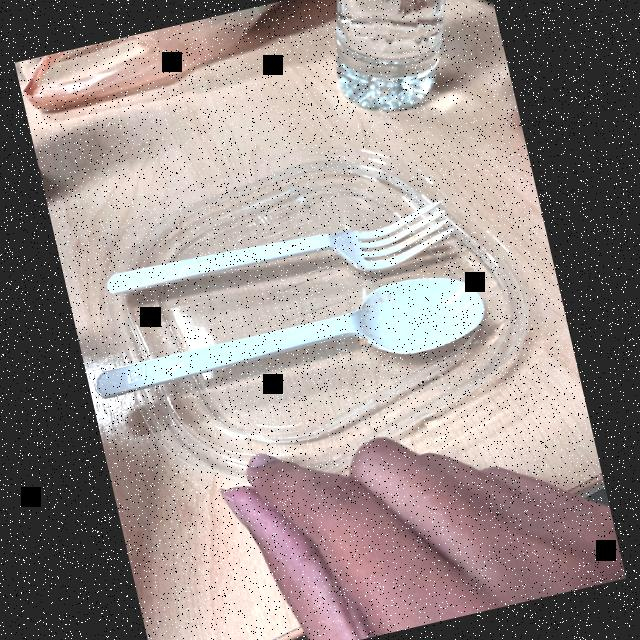plastic_spoon: (82, 261, 494, 441), (98, 185, 458, 331)
